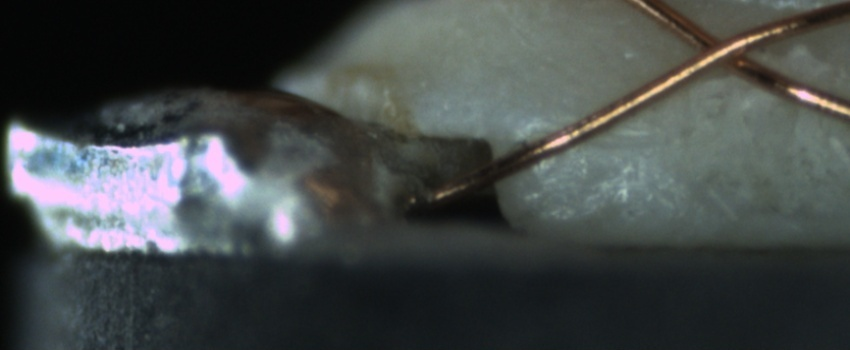CL: (668, 16, 777, 81)
DL: (542, 110, 663, 165)
